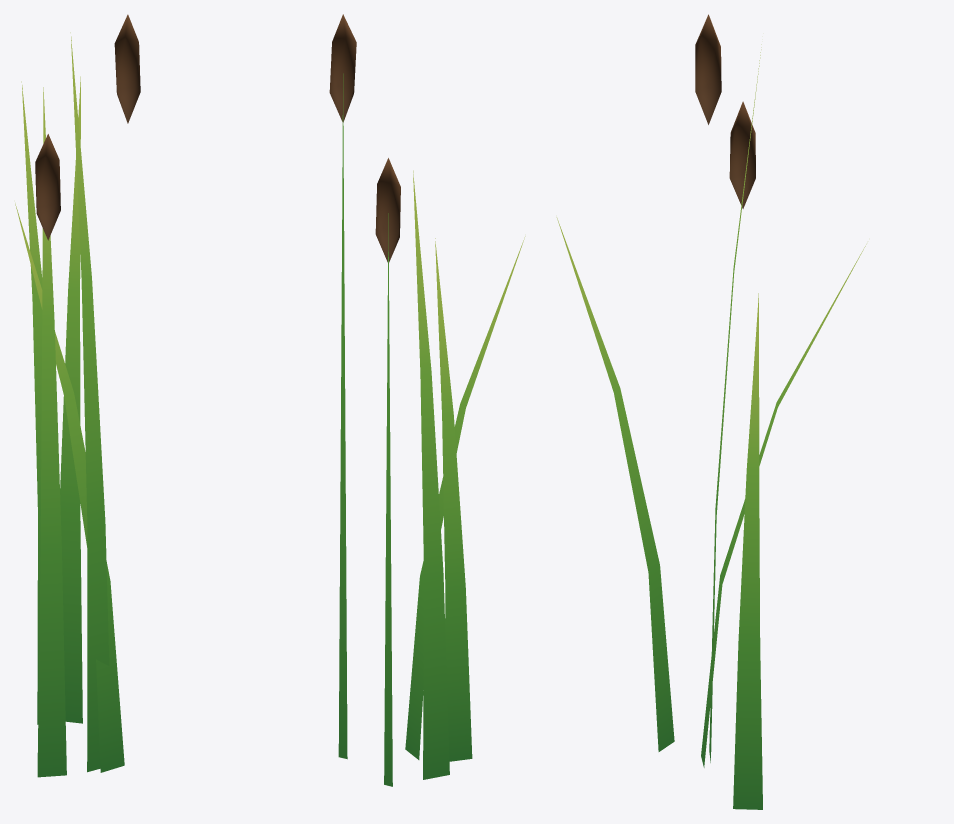
File: dress_reed.glb
3 renders of one model, left to right at view 1: azimuth 30°, elevation 25°; view 2: azimuth 150°, elevation 25°; view 3: azimuth 270°, elevation 25°, orthographic.
Visible parts, largest first — view 1: reed; view 2: reed; view 3: reed.
Part boxes in pixels (x1=…): reed: x1=15, y1=14, x2=140, y2=777; reed: x1=329, y1=14, x2=525, y2=786; reed: x1=556, y1=14, x2=866, y2=809.
Size of the model in its own units: 0.5082 by 1.94 by 0.8933.
